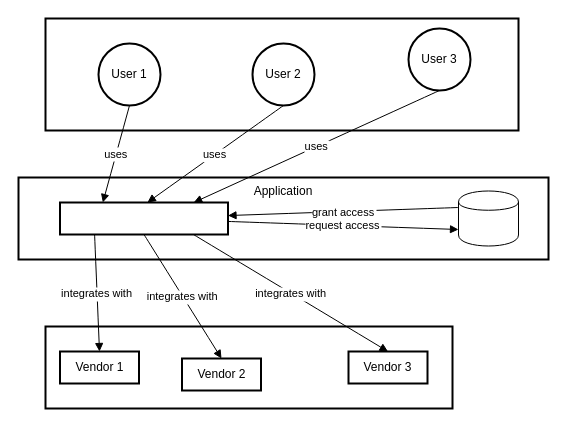
This 566x426 diagram has some shape labels left out. The shapes that lost their labels are listed below. From the top down, each one's box as (x1, y1, x2, y2) in pixels, then its label:
(44, 17, 519, 131): Users
(58, 201, 228, 235): Vegetable Application
(458, 190, 518, 246): vegetable DBMS
(44, 325, 453, 409): Vendors
